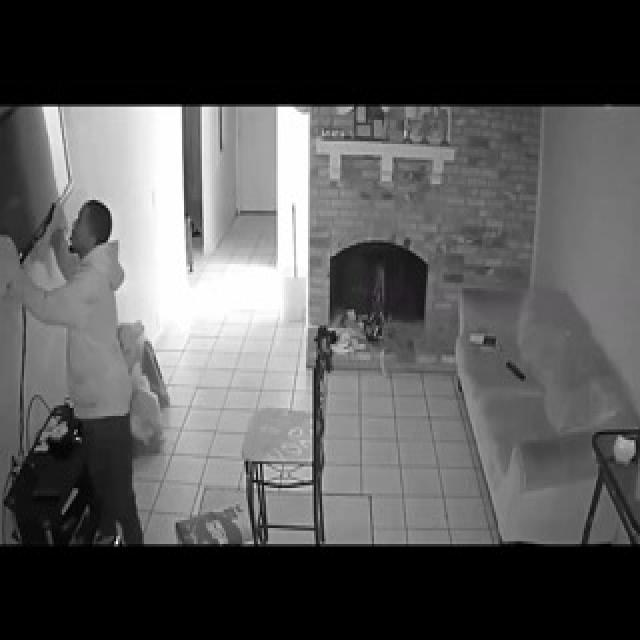thief: (55, 191, 127, 298)
